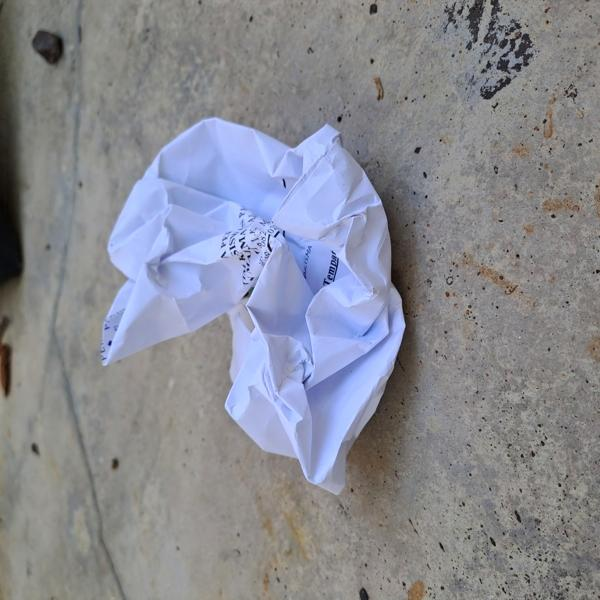Organik: (87, 113, 421, 517)
